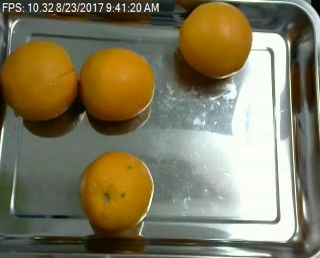Orange: (78, 150, 154, 231), (1, 41, 78, 120), (79, 44, 155, 121), (178, 2, 253, 77)
